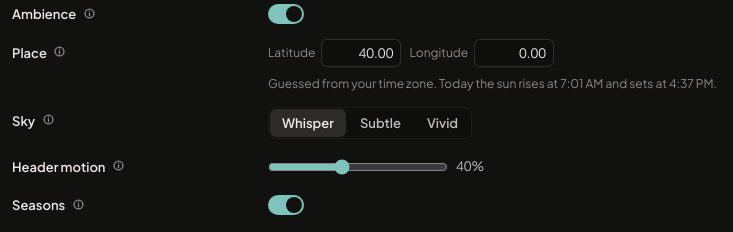
AmbienceSection › moves Header motion as one undo step
Set the slider named "Header motion" to "55" at (366, 166), box [268,156,448,176]
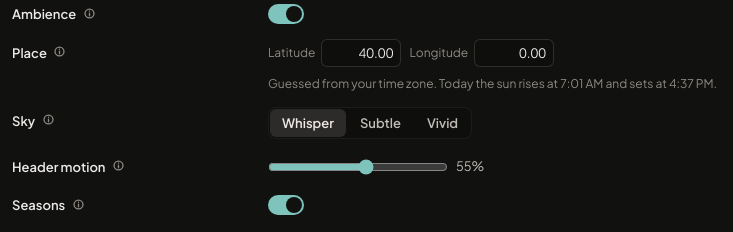
Set the slider named "Header motion" to "70" at (391, 166), box [268,156,448,176]
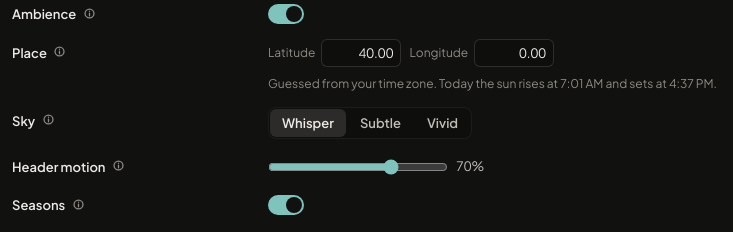
Check: the text "70%" is shown, box [456,158,484,174]
